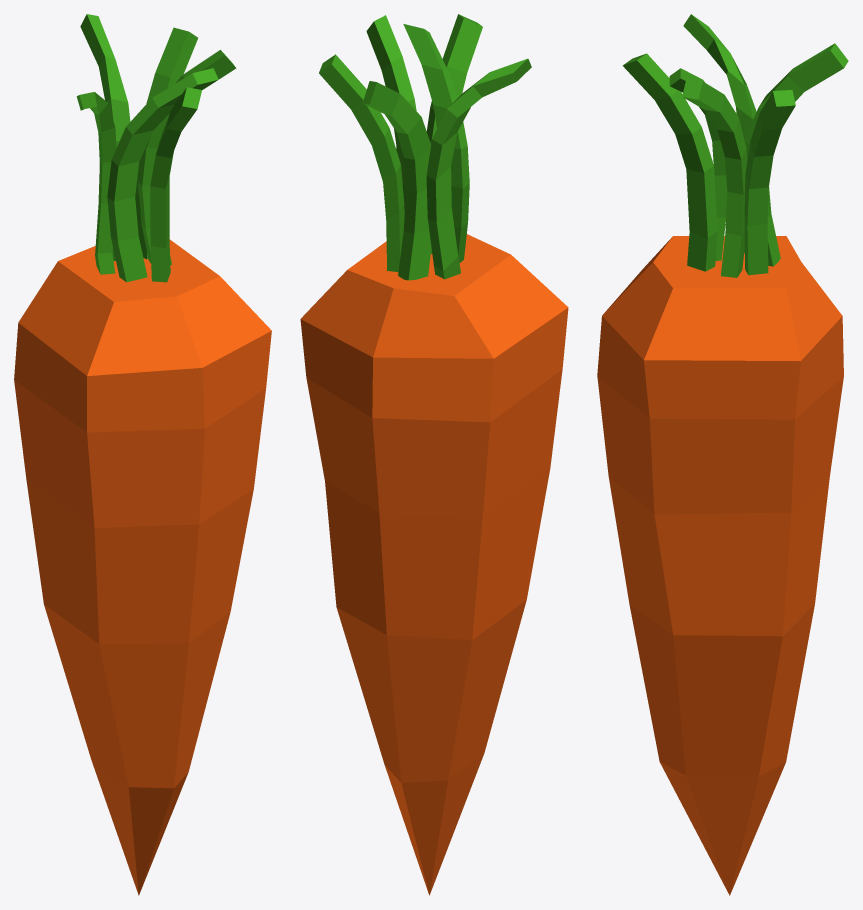
Rendered from Carrot.fbx.
3 renders of one model, left to right at view 1: azimuth 30°, elevation 25°; view 2: azimuth 150°, elevation 25°; view 3: azimuth 270°, elevation 25°, orthographic.
Parts seen in each view (by area): view 1: Cylinder; view 2: Cylinder; view 3: Cylinder.
Boxes of the visible parts, x1,y1,x2,y2 form: Cylinder: (14,14,271,895); Cylinder: (300,14,568,895); Cylinder: (597,14,848,895).
Size of the model in its own units: 70.72 by 305 by 81.37.
